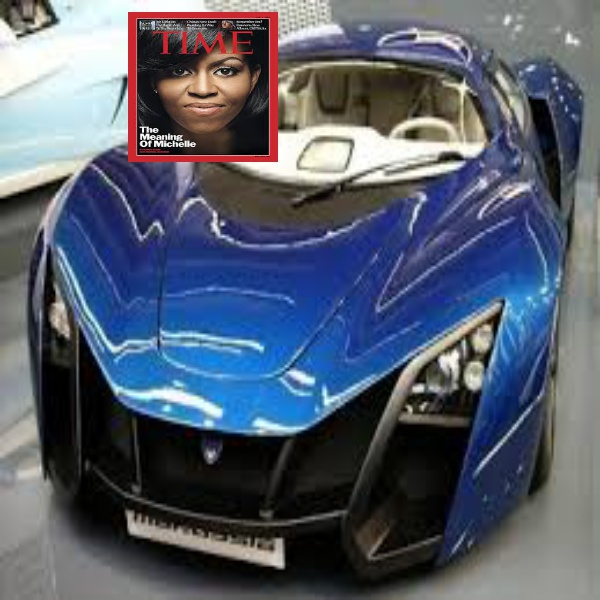time_cover: (120, 11, 283, 165)
